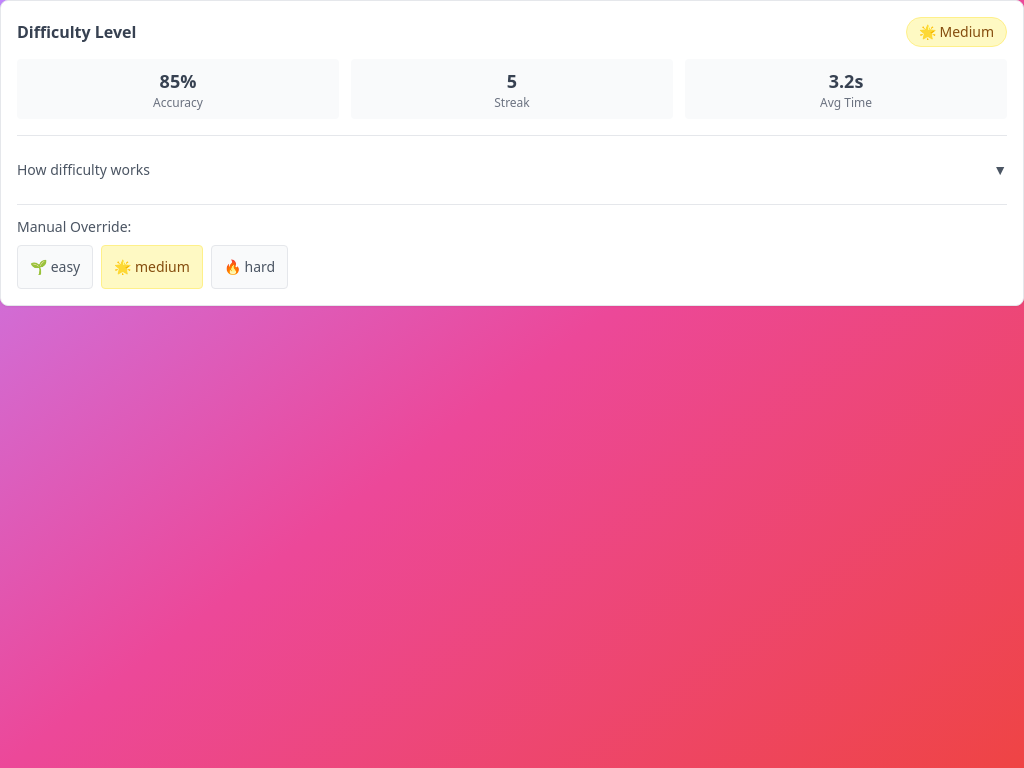
Test: AdaptiveDifficultyIndicator › Difficulty Explanation › should show smart adjustment explanation
Click the text "How difficulty works": (83, 170) [17, 160, 150, 180]
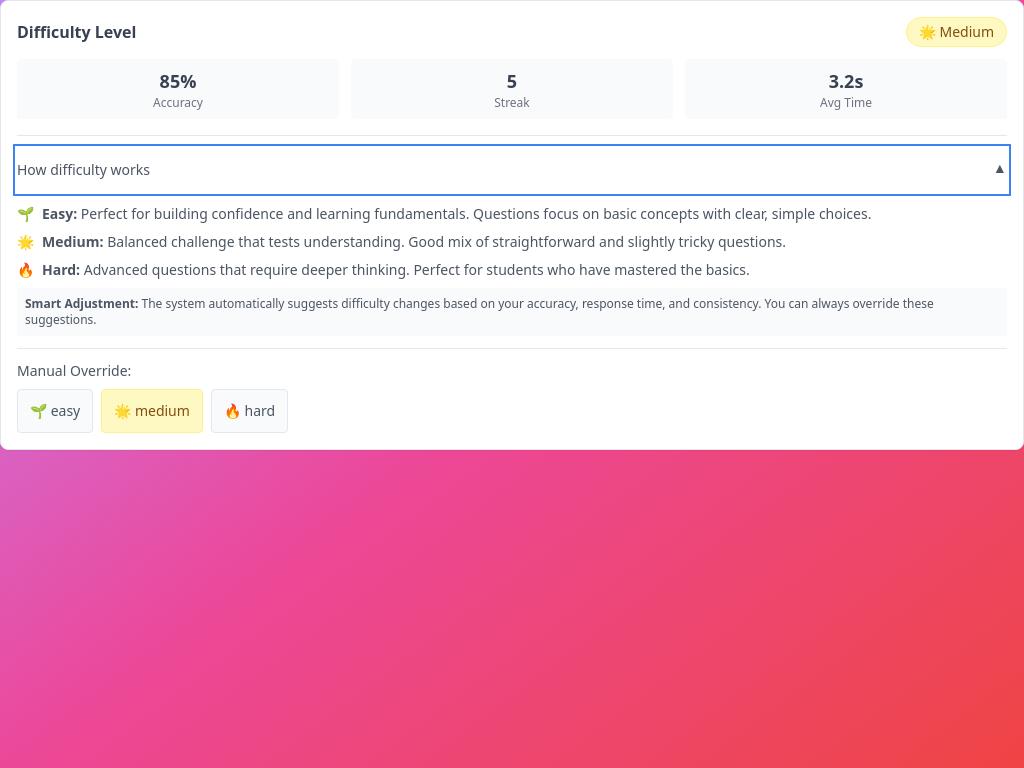
Now the text "Smart Adjustment:" is shown, box [25, 295, 138, 312]
Now the text "automatically suggests difficulty changes" is shown, box [25, 295, 934, 328]
